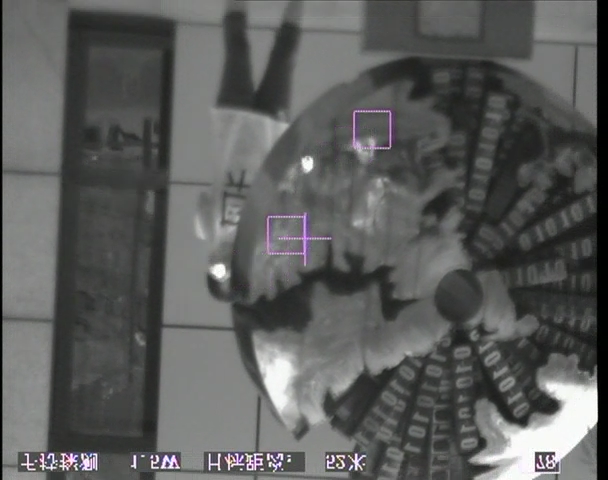my: (212, 262, 227, 279)
